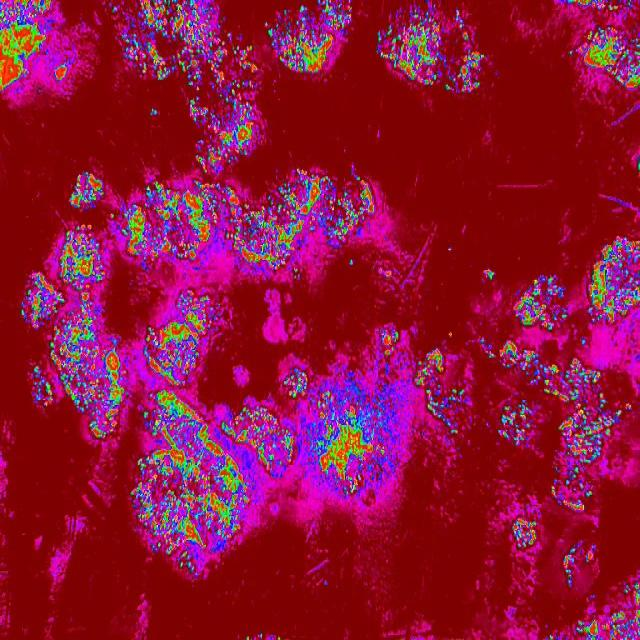fire: (129, 387, 277, 585), (123, 176, 371, 280), (21, 224, 124, 442), (276, 366, 405, 504), (554, 356, 624, 516), (376, 0, 482, 92), (110, 0, 227, 75), (181, 76, 262, 175), (143, 288, 216, 383), (262, 0, 352, 75), (0, 0, 55, 94), (412, 346, 468, 438), (568, 24, 640, 91), (588, 238, 640, 330), (479, 337, 554, 394), (518, 276, 568, 333), (568, 607, 640, 640), (493, 400, 536, 448), (560, 540, 596, 586), (69, 172, 105, 214), (225, 32, 259, 76), (560, 0, 639, 15), (510, 515, 538, 547), (380, 328, 400, 358), (621, 577, 640, 605), (56, 60, 70, 86), (247, 630, 280, 640), (293, 164, 310, 177), (482, 268, 497, 282), (147, 108, 159, 121), (545, 632, 557, 640), (636, 157, 640, 177), (625, 402, 633, 412), (580, 338, 587, 348), (447, 330, 455, 338), (110, 212, 117, 220), (448, 246, 454, 254)
